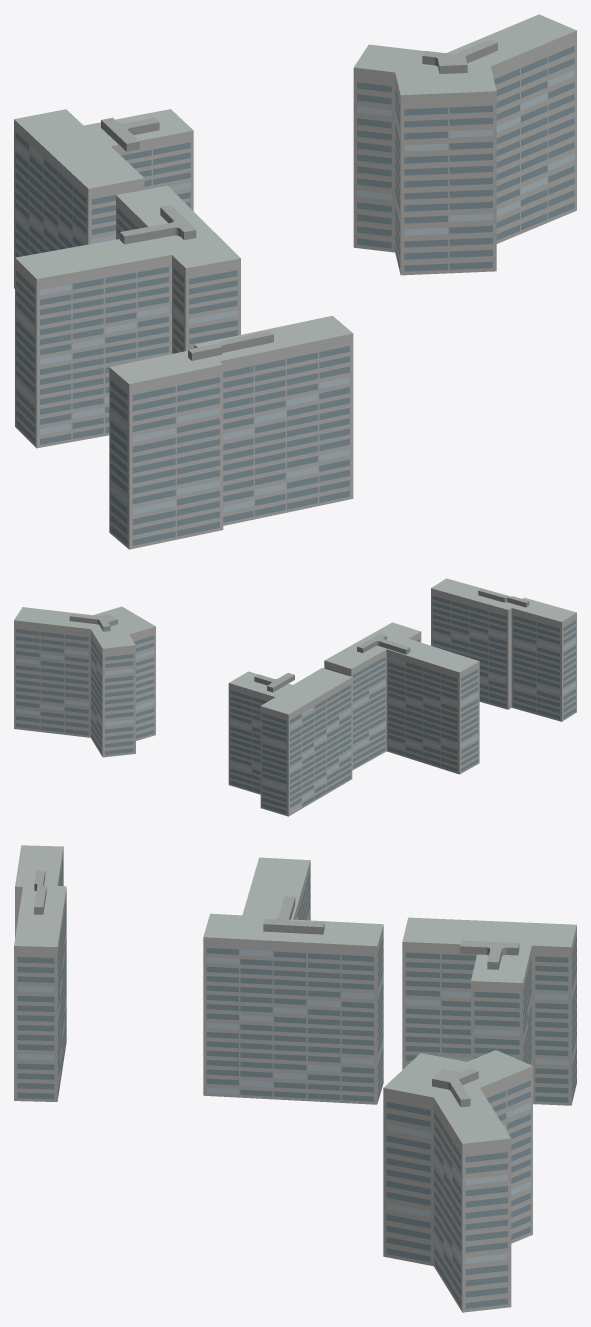
The model's file is apt-a15679103.glb.
The picture shows the model from 3 angles, top to bottom: view 1: azimuth 30°, elevation 25°; view 2: azimuth 150°, elevation 25°; view 3: azimuth 270°, elevation 25°; orthographic projection. The views are drawn at different scales.
Visible parts, largest first — view 1: apt-a15679103; view 2: apt-a15679103; view 3: apt-a15679103.
Part boxes in pixels (<box>): apt-a15679103: <box>14,14,576,549</box>; apt-a15679103: <box>14,578,576,816</box>; apt-a15679103: <box>14,845,576,1312</box>.
Size of the model in its own units: 182 by 47.81 by 138.
